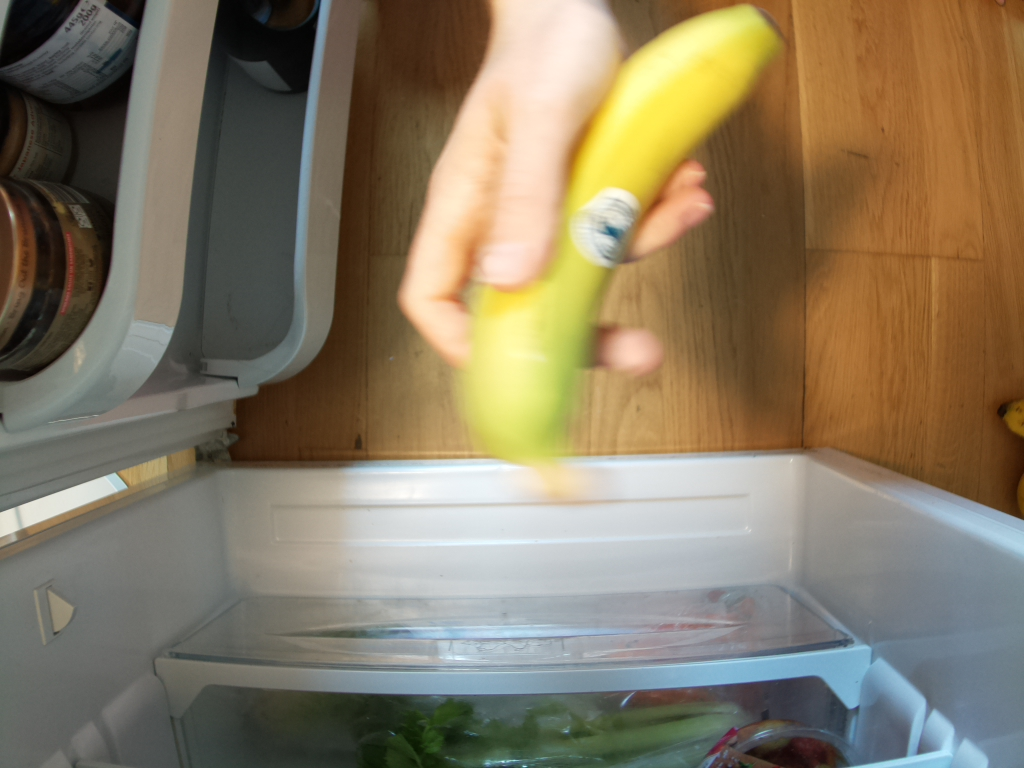banana-unripe: (449, 1, 777, 503)
